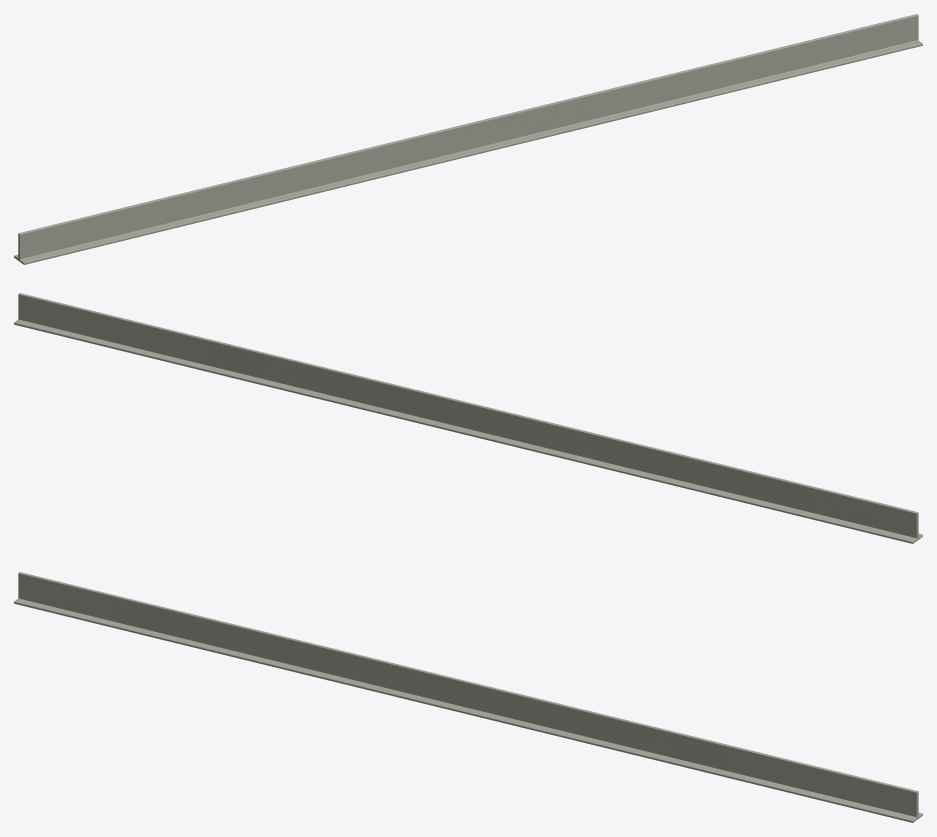
File: ceiling_grid_122.gltf
3 renders of one model, top to bottom at view 1: azimuth 30°, elevation 25°; view 2: azimuth 150°, elevation 25°; view 3: azimuth 330°, elevation 25°, orthographic.
Visible parts, largest first — view 1: ceiling_grid_122.001; view 2: ceiling_grid_122.001; view 3: ceiling_grid_122.001.
Part boxes in pixels (x1,y1,x2,y2): ceiling_grid_122.001: (14,14,922,264); ceiling_grid_122.001: (14,293,922,543); ceiling_grid_122.001: (14,572,922,822).
Bounding box in the file's own units: 1.22 × 0.036 × 0.024.
1 material, 1 textured.
